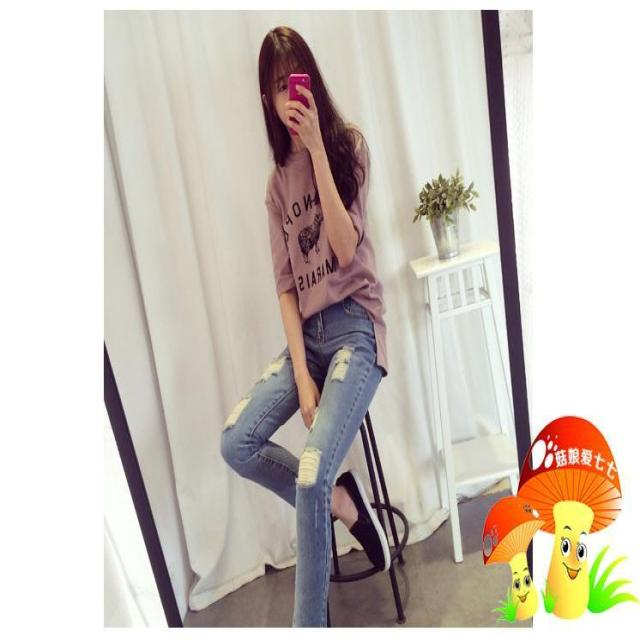short sleeve top: (269, 125, 388, 373)
trousers: (223, 287, 376, 628)
